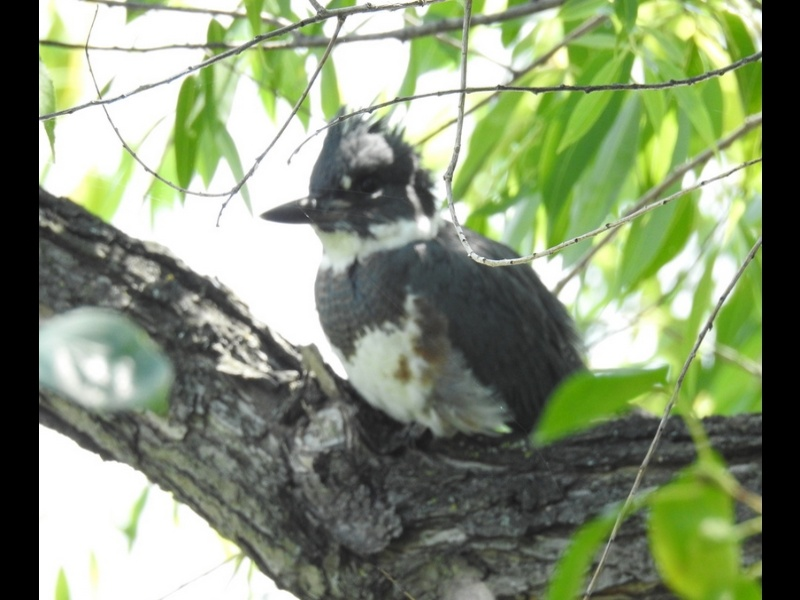kingfisher: (256, 108, 622, 443)
